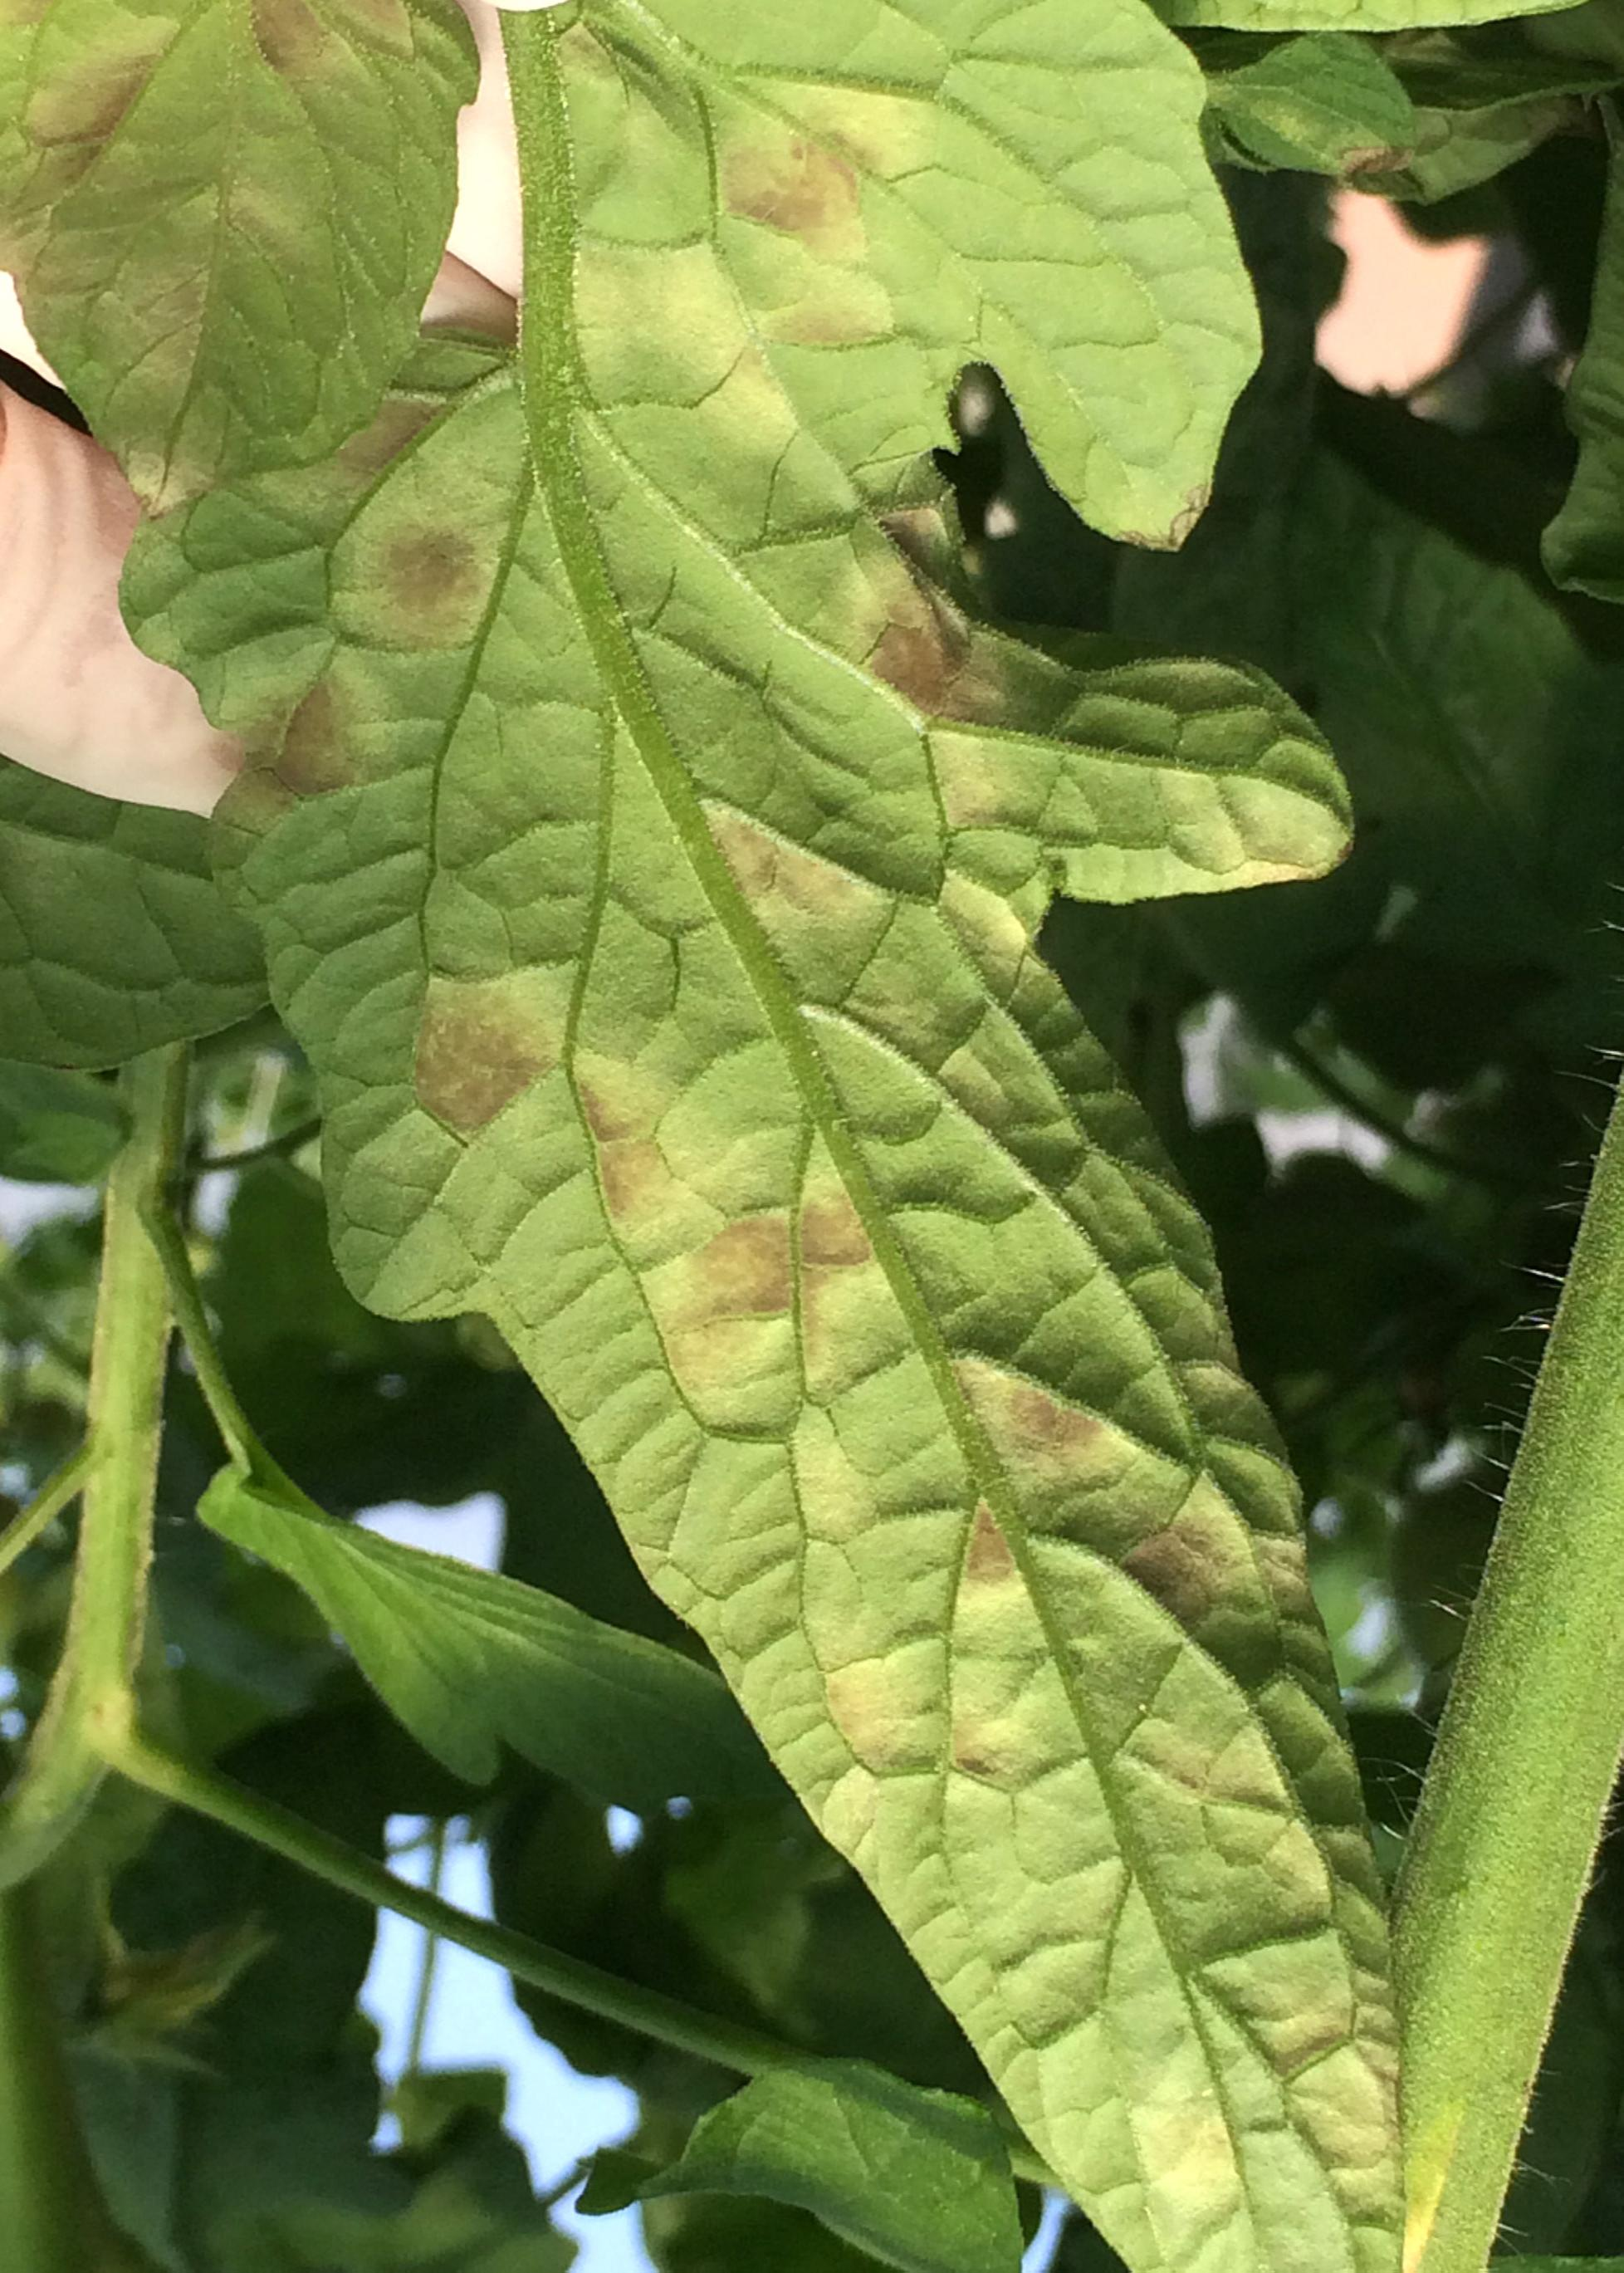Tomato mold leaf: (79, 0, 1420, 2261)
